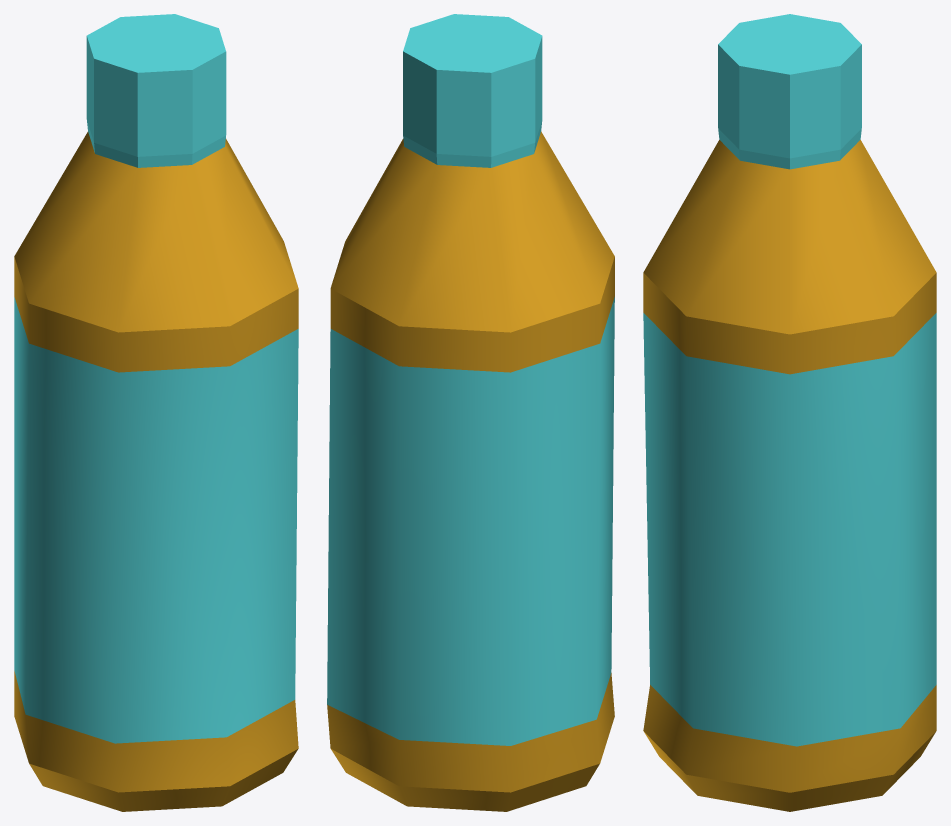
Rendered from LittleBonusBottle.fbx.
3 renders of one model, left to right at view 1: azimuth 30°, elevation 25°; view 2: azimuth 150°, elevation 25°; view 3: azimuth 270°, elevation 25°, orthographic.
Parts seen in each view (by area): view 1: LittleBonusBottle; view 2: LittleBonusBottle; view 3: LittleBonusBottle.
Part boxes in pixels (box(x1,y1,x2,y2)): LittleBonusBottle: box(14, 14, 298, 811); LittleBonusBottle: box(327, 14, 614, 811); LittleBonusBottle: box(643, 14, 936, 811).
Size of the model in its own units: 31.02 by 31.02 by 83.13.
